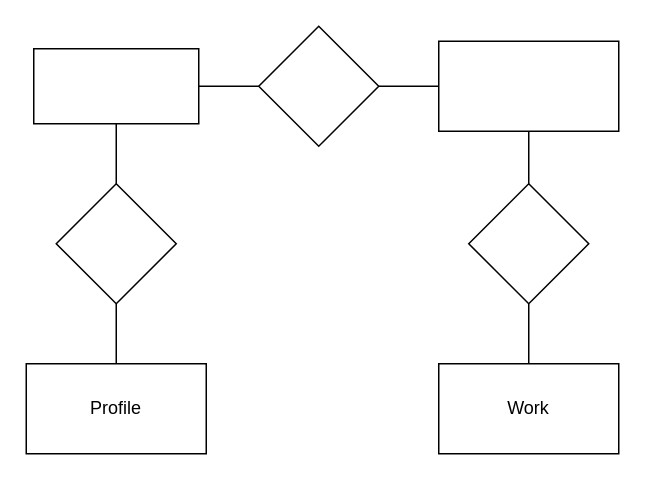
This 645x480 diagram has some shape labels left out. The shapes that lost their labels are listed below. From the top down, each one's centre as x and y in pixels, then its label:
At point 115,85: "User".
At point 528,85: "WorkList".
